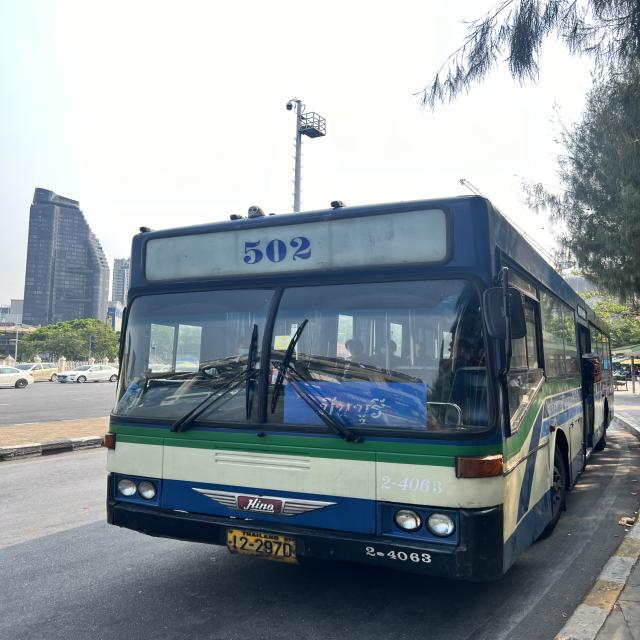BMTA-bus: (104, 193, 613, 585)
Bus-Line-Number: (230, 226, 326, 267)
Destination-Sign-Normal: (282, 383, 428, 430)
